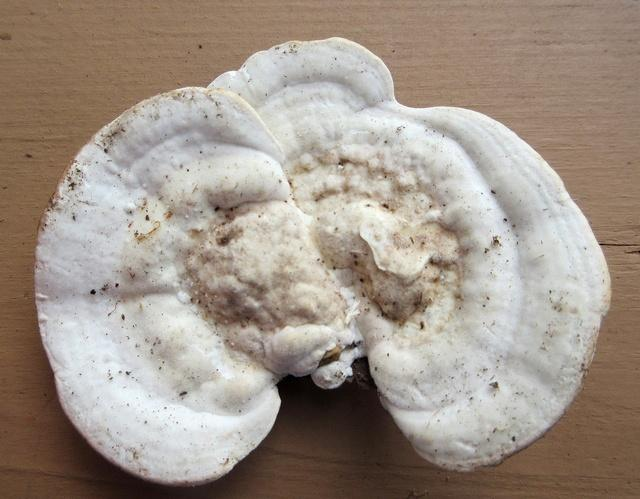poisonous_mushroom: (26, 29, 620, 487)
